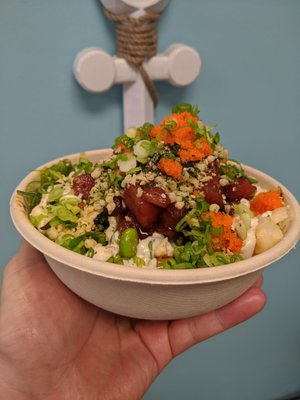curry: (118, 227, 140, 259)
sushi: (5, 108, 300, 323)
